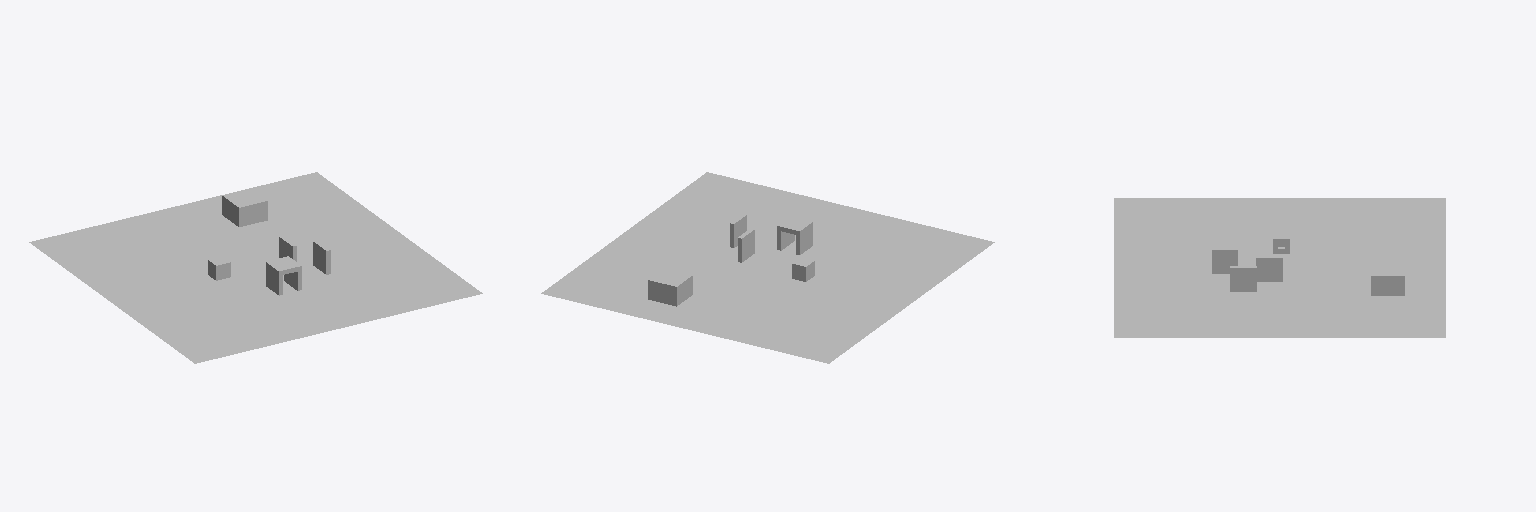
The model's file is mainmap.obj.
3 views of the same model, side by side, from view 1: azimuth 30°, elevation 25°; view 2: azimuth 150°, elevation 25°; view 3: azimuth 270°, elevation 25° (orthographic).
Visible parts, largest first — view 1: Plane, Cube.007, Cube.004_Cube.003; view 2: Plane, Cube.007, Cube.004_Cube.003; view 3: Plane, Cube.007, Cube.004_Cube.003, Cube.005, Cube.003_Cube.
Part boxes in pixels (left/top/right/bottom): Plane: left=29, top=172, right=482, bottom=363; Cube.007: left=222, top=189, right=267, bottom=226; Cube.004_Cube.003: left=266, top=256, right=301, bottom=295; Plane: left=541, top=172, right=994, bottom=363; Cube.007: left=648, top=268, right=692, bottom=306; Cube.004_Cube.003: left=777, top=216, right=812, bottom=254; Plane: left=1114, top=198, right=1445, bottom=337; Cube.007: left=1371, top=262, right=1404, bottom=295; Cube.004_Cube.003: left=1212, top=238, right=1237, bottom=273; Cube.005: left=1230, top=266, right=1256, bottom=291; Cube.003_Cube: left=1256, top=256, right=1282, bottom=281.
Bounding box in the file's own units: 200 × 16.11 × 200.